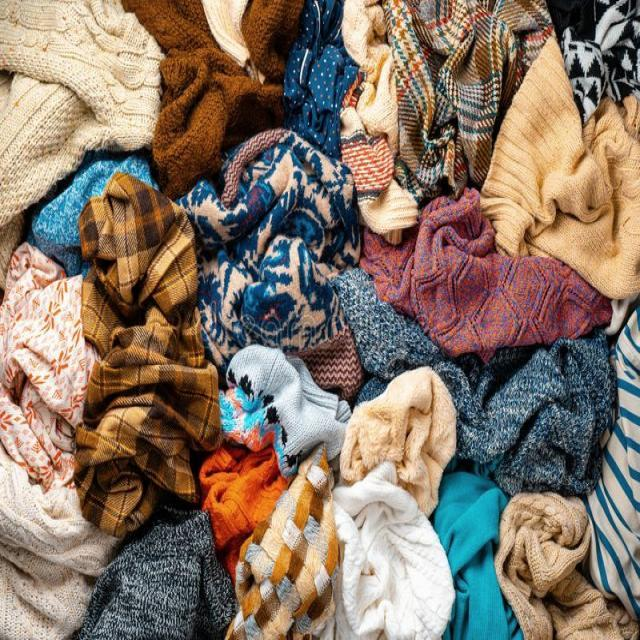clothes: (64, 84, 596, 570)
